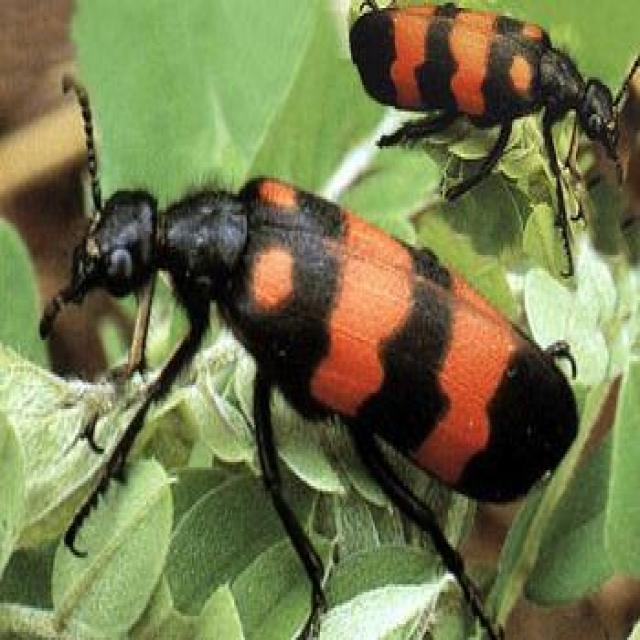BlisterBeetle-Adult-: (45, 151, 594, 556), (351, 5, 624, 198)
